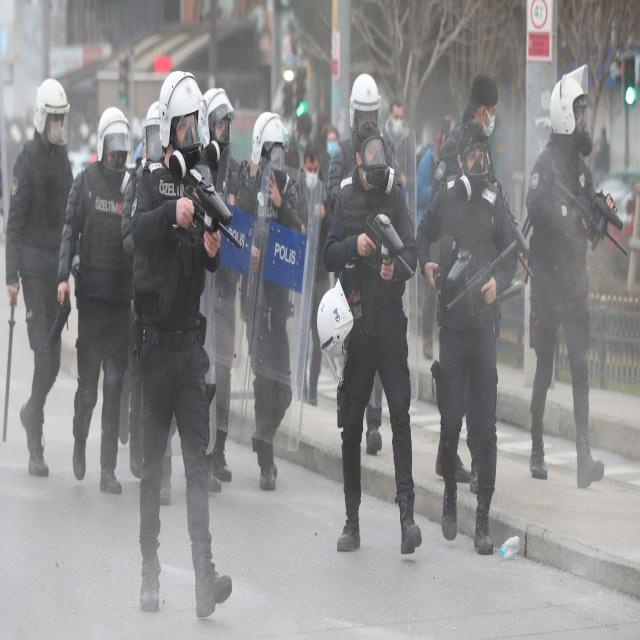police: (119, 62, 246, 629), (320, 60, 440, 577), (416, 125, 530, 575), (521, 60, 628, 519), (49, 60, 130, 531), (3, 69, 80, 515), (246, 102, 323, 513)
